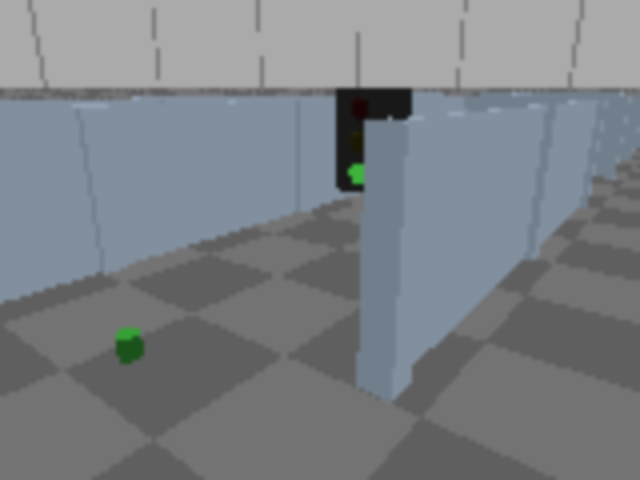puck: (117, 328, 142, 362)
